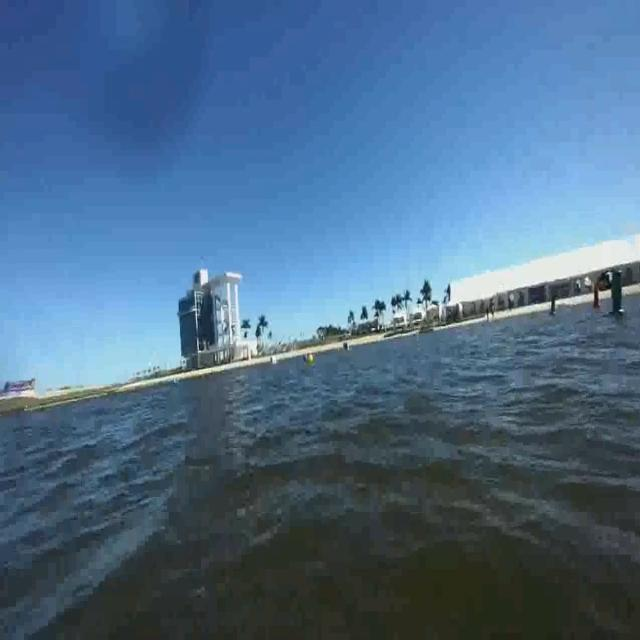green-column-buoy: (610, 268, 628, 318), (550, 290, 560, 318)
red-column-buoy: (590, 280, 600, 311)
yellow-buoy: (306, 353, 313, 365)
